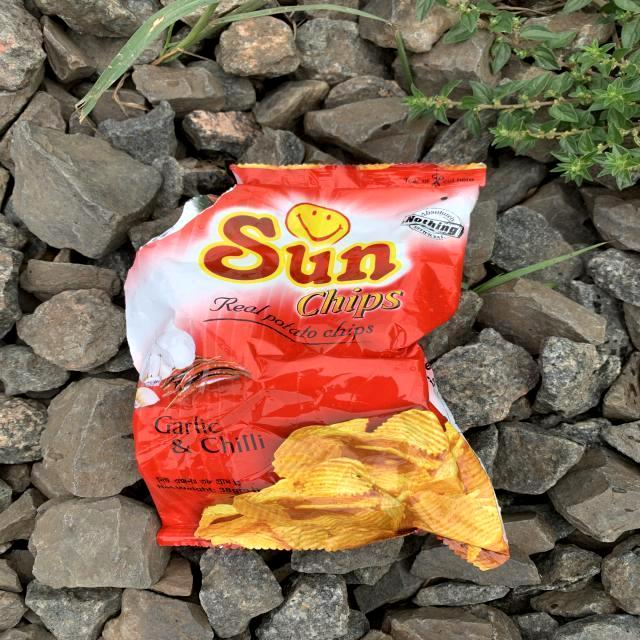packet: (125, 141, 516, 575)
